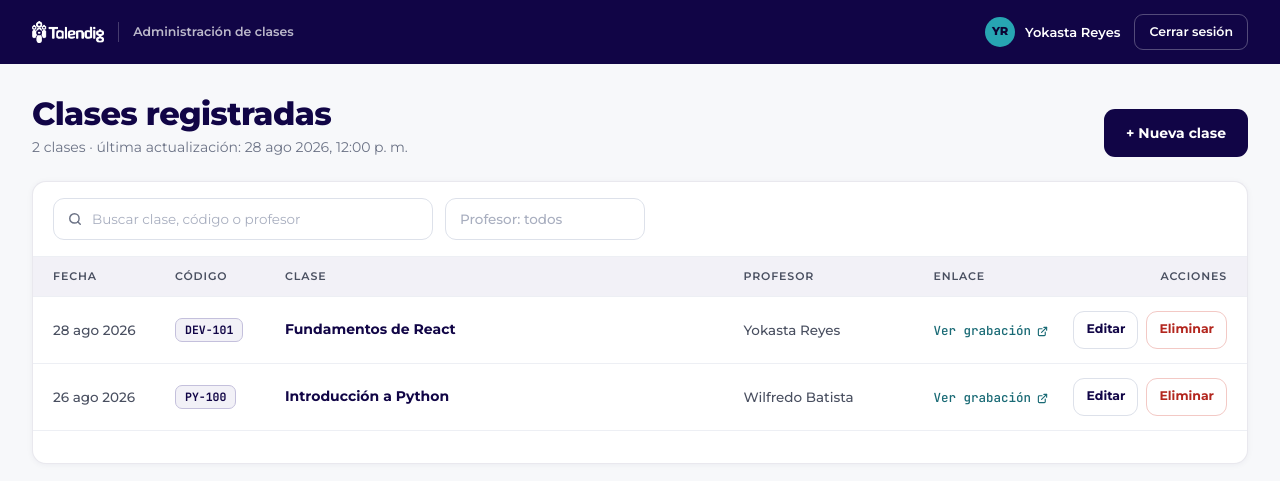
Test: AdminDashboardPage › filters the list by teacher
Expected: the text "2 clases · última actualización: 28 ago 2026, 12:00 p. m." is shown, [32,137,408,157]
Select "Wilfredo Batista" in the dropdown named "Profesor" at (545, 219), box [445,198,645,240]
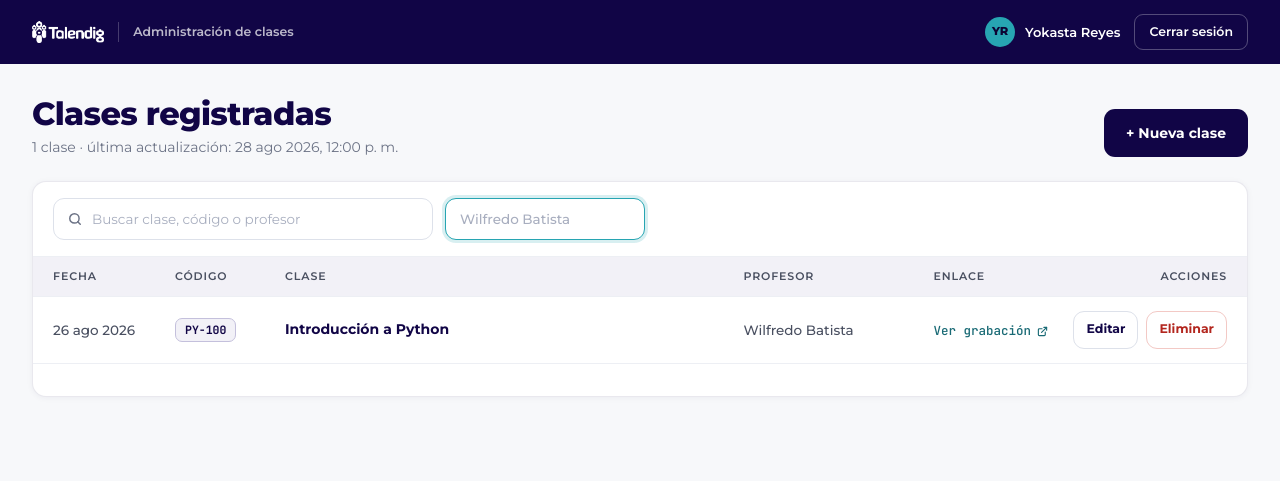
Expected: the text "1 clase · última actualización: 28 ago 2026, 12:00 p. m." is shown, [32,137,398,157]
